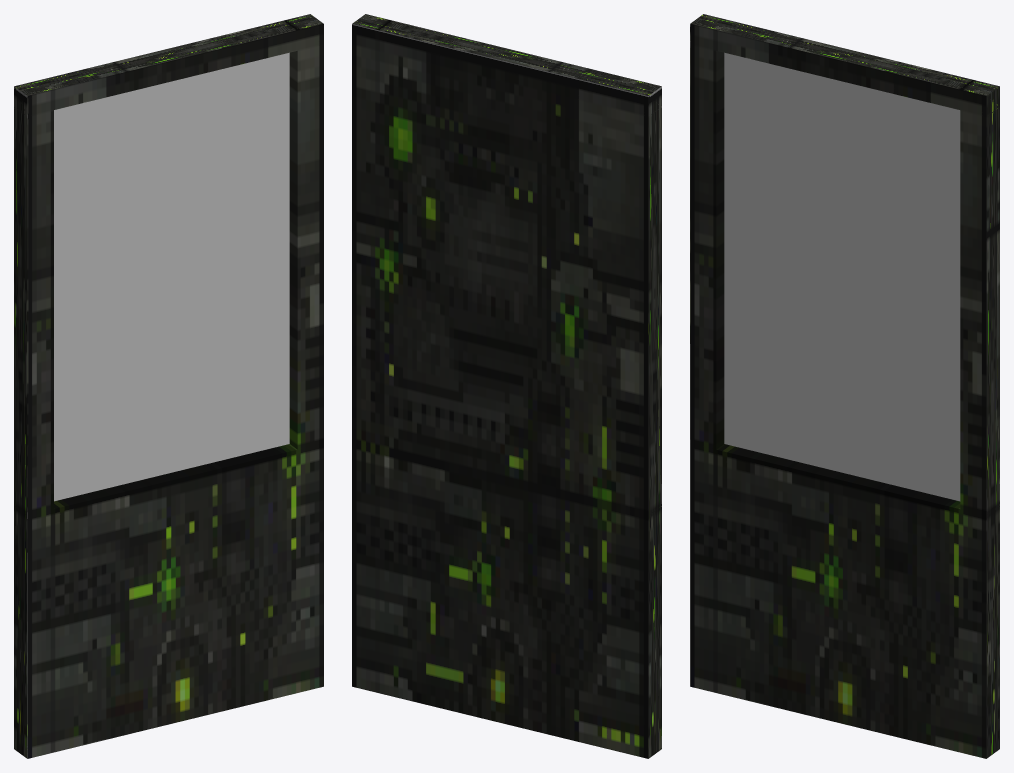
Rendered from panneau 2.fbx.
The picture shows the model from 3 angles, left to right: view 1: azimuth 30°, elevation 25°; view 2: azimuth 150°, elevation 25°; view 3: azimuth 330°, elevation 25°; orthographic projection.
Visible parts, largest first — view 1: Cube; view 2: Cube; view 3: Cube.
Boxes of the visible parts, x1=… form: Cube: x1=14, y1=14, x2=323, y2=758; Cube: x1=352, y1=14, x2=661, y2=758; Cube: x1=690, y1=14, x2=999, y2=758.
Bounding box in the file's own units: 219 × 468 × 17.2.
